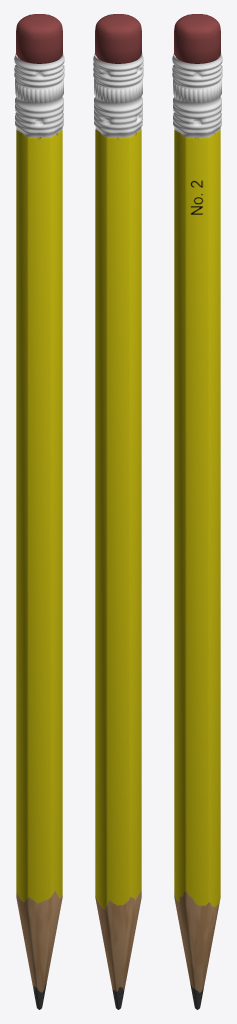
File: pencil.fbx
The picture shows the model from 3 angles, left to right: view 1: azimuth 90°, elevation 25°; view 2: azimuth 150°, elevation 25°; view 3: azimuth 270°, elevation 25°; orthographic projection.
Parts seen in each view (by area): view 1: Pencil; view 2: Pencil; view 3: Pencil.
Part boxes in pixels (x1=…): Pencil: x1=14, y1=14, x2=64, y2=1009; Pencil: x1=93, y1=14, x2=143, y2=1009; Pencil: x1=172, y1=14, x2=222, y2=1009.
Bounding box in the file's own units: 2.05 × 44.43 × 2.05.
